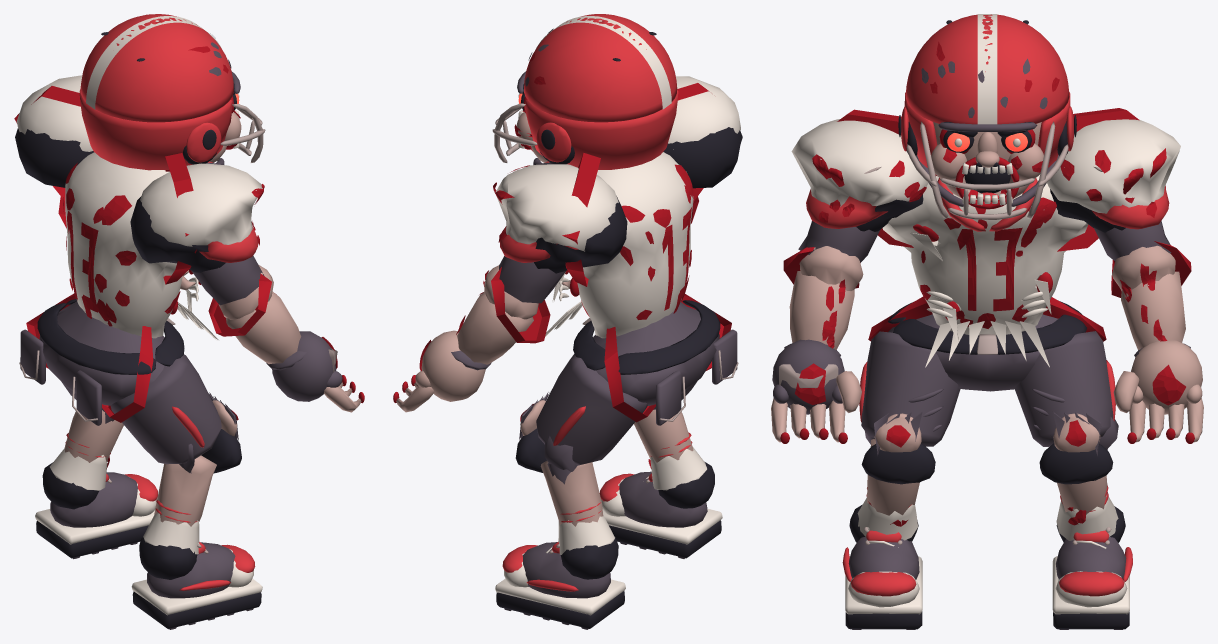
Rendered from inf.armored-football.glb.
The picture shows the model from 3 angles, left to right: view 1: azimuth 30°, elevation 25°; view 2: azimuth 150°, elevation 25°; view 3: azimuth 270°, elevation 25°; orthographic projection. The views are drawn at different scales.
Parts seen in each view (by area): view 1: head, torso, armR, hip, footR, footL, legR, armL, shinR, foreArmR, handR, shinL (+4 smaller); view 2: head, torso, armL, hip, footL, footR, legL, armR, shinL, foreArmL, handL, shinR (+3 smaller); view 3: head, torso, armL, armR, legR, legL, footR, footL, handR, handL, hip, foreArmL (+8 smaller).
Part boxes in pixels (x1,y1,x2,y2): head: [79, 14, 265, 170]; torso: [63, 152, 218, 340]; armR: [130, 163, 264, 305]; hip: [19, 299, 184, 425]; footR: [131, 537, 262, 629]; footL: [35, 462, 157, 559]; legR: [110, 354, 238, 464]; armL: [15, 75, 93, 187]; shinR: [143, 429, 241, 554]; foreArmR: [218, 264, 306, 370]; handR: [272, 331, 364, 412]; shinL: [49, 409, 123, 490]; head: [492, 14, 678, 169]; torso: [545, 152, 693, 338]; armL: [493, 164, 627, 303]; hip: [573, 300, 738, 425]; footL: [495, 536, 625, 629]; footR: [599, 462, 722, 558]; legL: [519, 354, 647, 465]; armR: [663, 76, 742, 188]; shinL: [515, 428, 614, 554]; foreArmL: [451, 265, 538, 370]; handL: [393, 330, 485, 412]; shinR: [634, 409, 706, 490]; head: [898, 14, 1076, 219]; torso: [882, 175, 1088, 367]; armL: [1047, 119, 1180, 261]; armR: [791, 119, 928, 262]; legR: [859, 331, 960, 455]; legL: [1014, 331, 1115, 455]; footR: [842, 504, 922, 629]; footL: [1052, 506, 1132, 629]; handR: [771, 339, 861, 443]; handL: [1113, 340, 1203, 443]; hip: [888, 300, 1086, 391]; foreArmL: [1112, 245, 1190, 357].
Bounding box in the file's own units: 0.6666 × 1.63 × 1.08.
